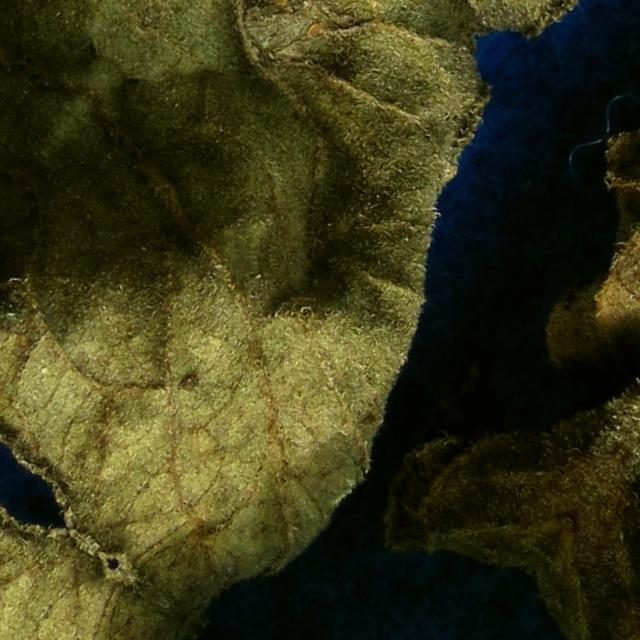Tomato leaf late blight: (0, 0, 630, 640), (45, 0, 640, 543)
